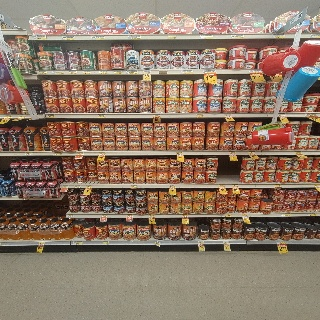All PRICE TAGS: (271, 33, 285, 39), (61, 35, 75, 40), (33, 35, 46, 40), (230, 34, 244, 38), (304, 113, 317, 117), (92, 35, 105, 39), (128, 35, 141, 39), (310, 33, 320, 38), (199, 35, 213, 38), (72, 241, 82, 245), (276, 240, 286, 244), (167, 35, 177, 39), (53, 70, 63, 74), (68, 70, 78, 74), (127, 70, 137, 74), (203, 70, 216, 73), (3, 114, 12, 118), (17, 114, 26, 118), (38, 70, 47, 74), (83, 70, 92, 74), (98, 70, 107, 74), (142, 70, 151, 74), (181, 70, 193, 73), (250, 70, 262, 73), (306, 213, 317, 216), (281, 213, 292, 216), (294, 151, 302, 155), (278, 113, 286, 117), (159, 70, 167, 74), (228, 151, 236, 155), (53, 152, 63, 155), (223, 240, 230, 244), (169, 185, 176, 189), (274, 184, 281, 188), (153, 114, 160, 118), (196, 113, 203, 117), (225, 113, 232, 117), (25, 152, 34, 155), (46, 114, 55, 117), (198, 240, 204, 244), (66, 214, 74, 217), (130, 185, 138, 188), (98, 114, 106, 117), (76, 152, 84, 155), (176, 152, 184, 155), (60, 185, 68, 188), (155, 241, 162, 244), (242, 214, 249, 217), (182, 214, 189, 217), (148, 214, 155, 217), (126, 214, 133, 217), (231, 184, 238, 187), (219, 184, 226, 187), (85, 185, 92, 188), (74, 185, 81, 188), (38, 242, 45, 245), (99, 152, 106, 155), (249, 152, 256, 155), (102, 241, 108, 244), (224, 214, 230, 217), (101, 214, 107, 217), (314, 184, 320, 187)
